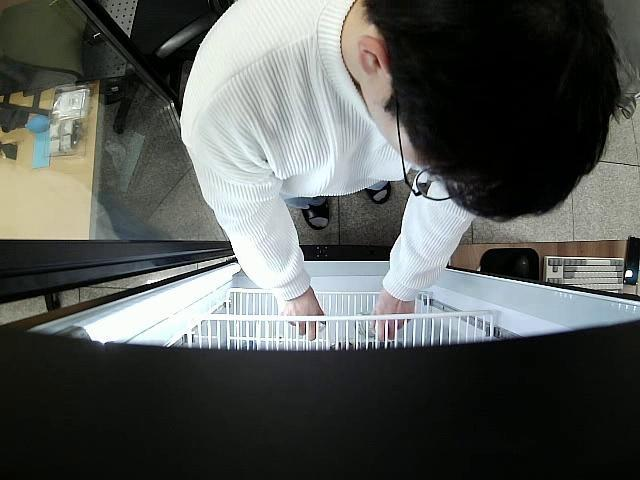18_trevi: (354, 311, 381, 336)
